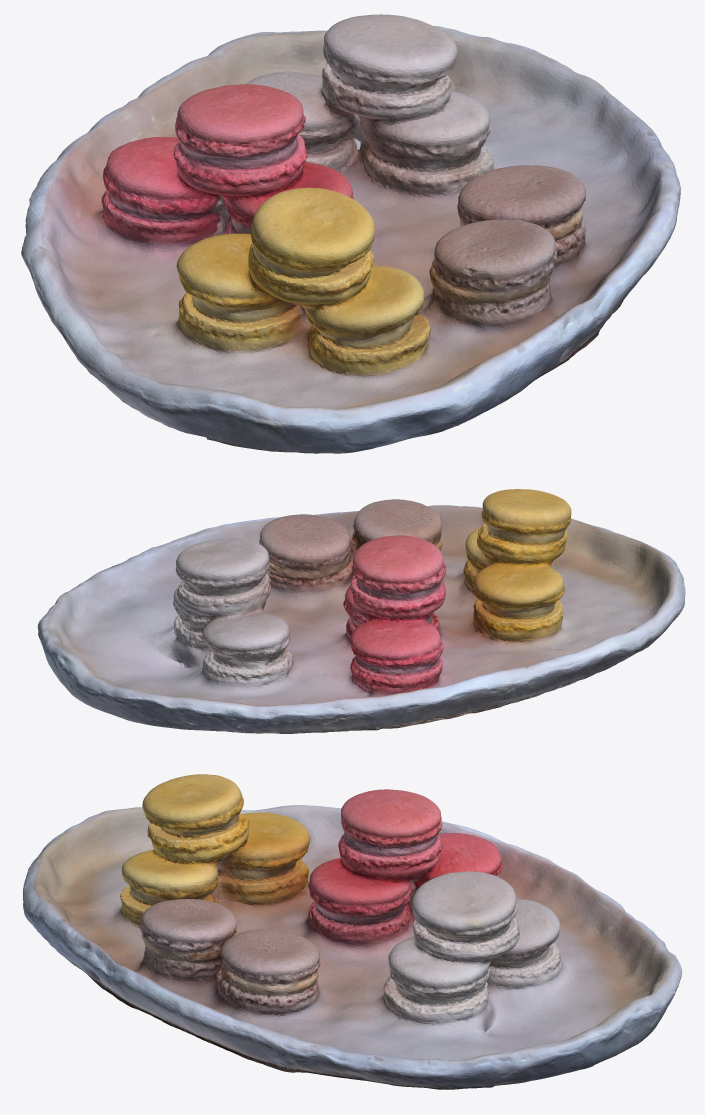
File: shirin latifeh.behine.glb
3 renders of one model, top to bottom at view 1: azimuth 30°, elevation 25°; view 2: azimuth 150°, elevation 25°; view 3: azimuth 270°, elevation 25°, orthographic. The views are drawn at different scales.
Parts seen in each view (by area): view 1: object 1; view 2: object 1; view 3: object 1.
Boxes of the visible parts, <box> form: object 1: <box>21,14,680,453</box>; object 1: <box>37,489,685,733</box>; object 1: <box>23,774,682,1089</box>.
Size of the model in its own units: 0.2657 by 0.0644 by 0.2813.
Materials: 2 (1 with a texture image).
